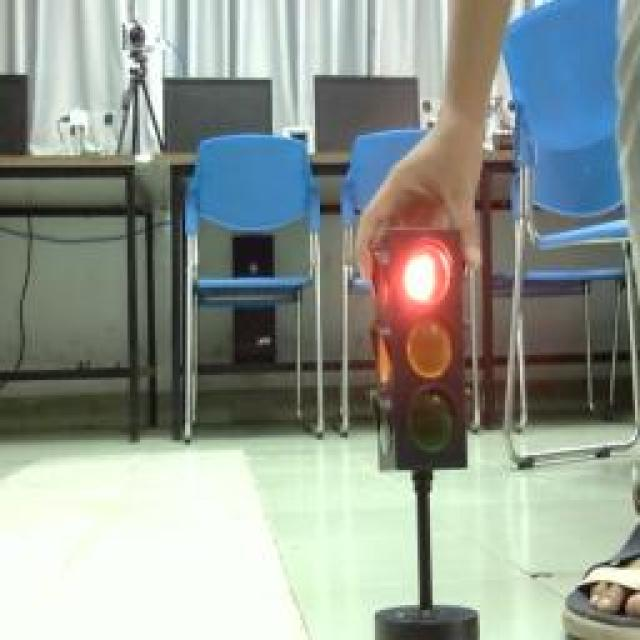-: (401, 235, 456, 312)
